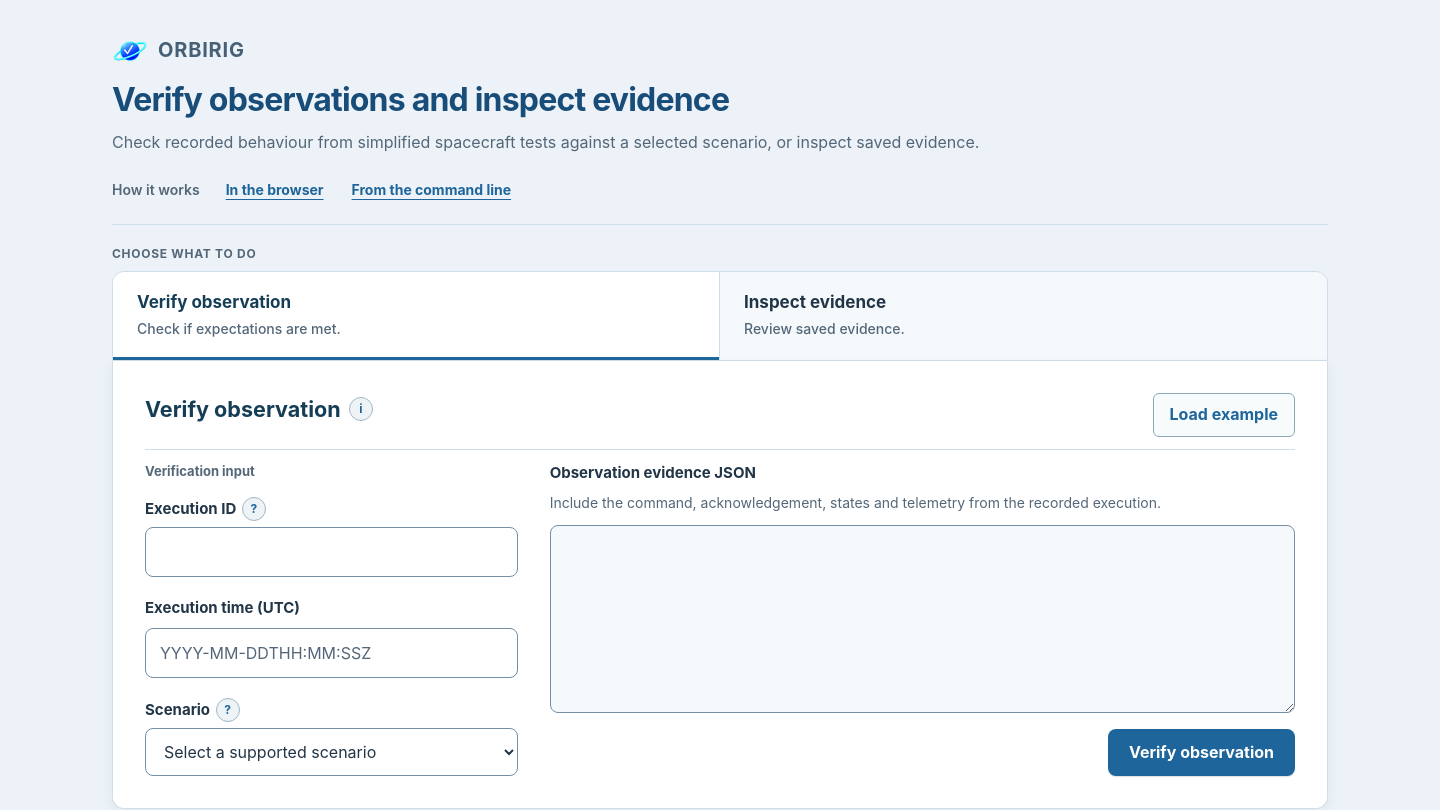
Test: App feedback › preserves completed verification state while switched away
The image size is (1440, 810).
Type "exec-web-verify-001" into the field labelled "Execution ID". click: point(331, 552)
box: [145,528,518,578]
Type "2026-08-25T18:30:00Z" into the field labelled "Execution time (UTC)". click: point(331, 653)
box: [145,628,518,678]
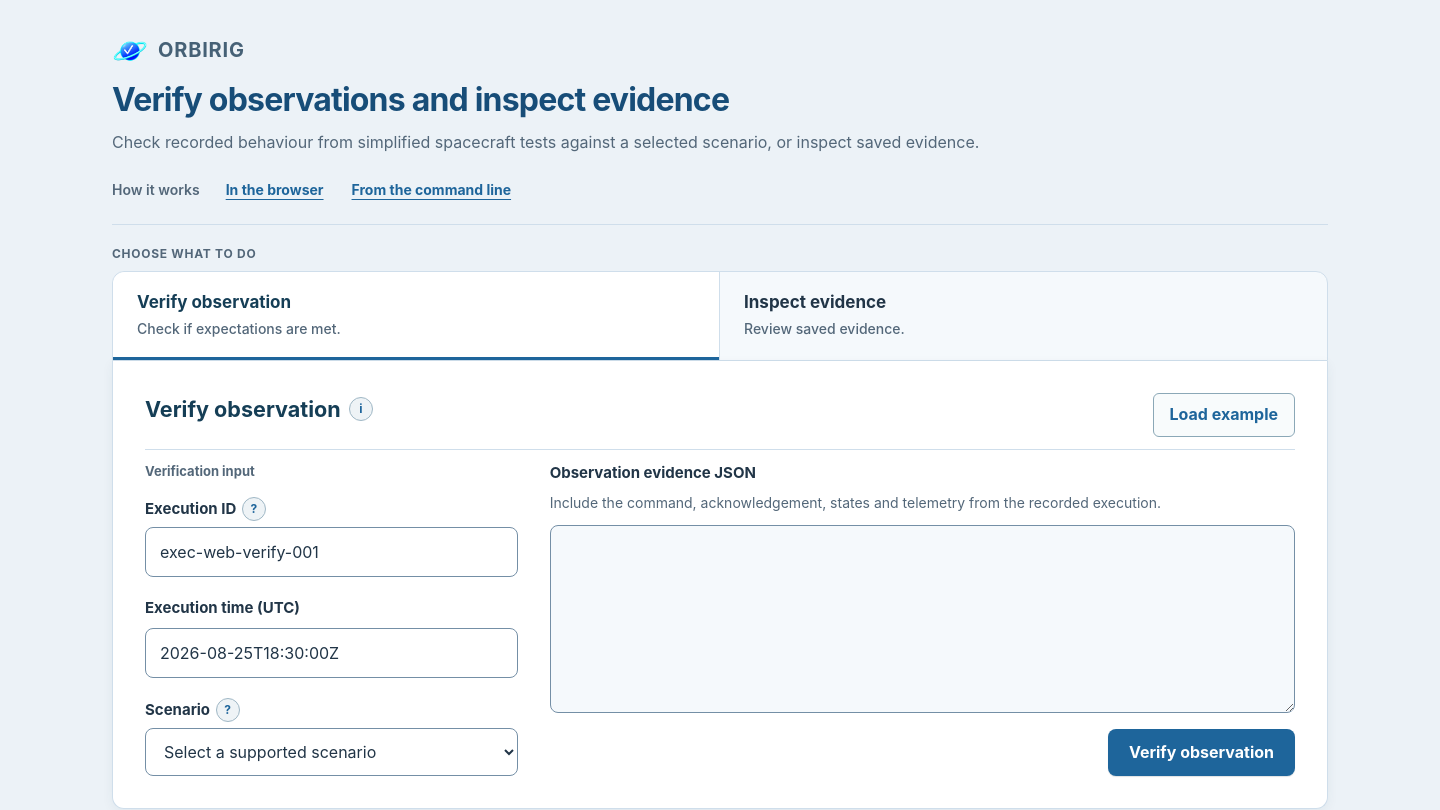
Select "NOMINAL to SAFE" in the dropdown labelled "Scenario". click: point(331, 752)
box: [145,728,518,776]
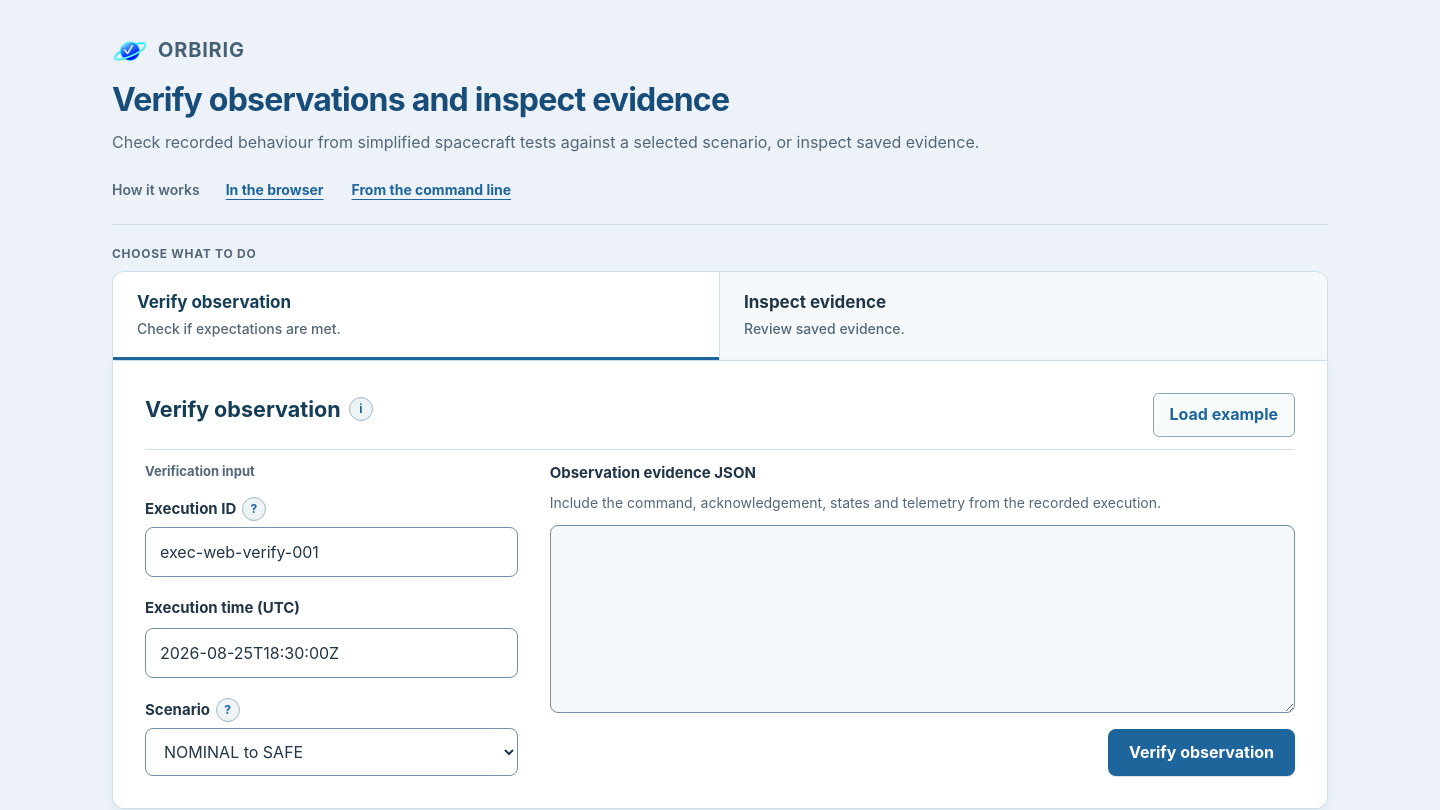
Type "raw observation evidence" into the text box labelled "Observation evidence JSON". click: point(922, 619)
box: [550,525,1295,713]
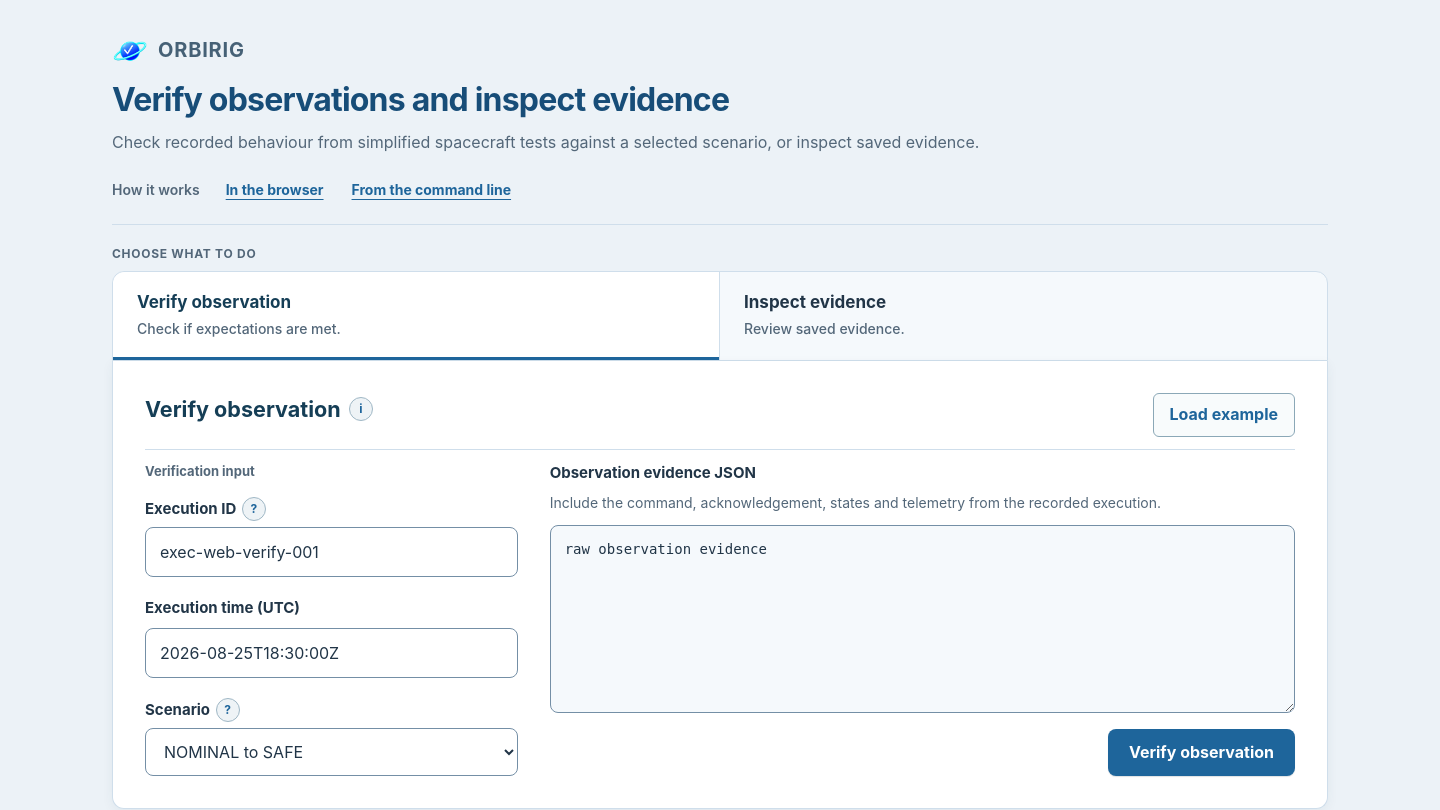
Click the button "Verify observation". click: point(1201, 752)
box: [1108,729,1295,776]
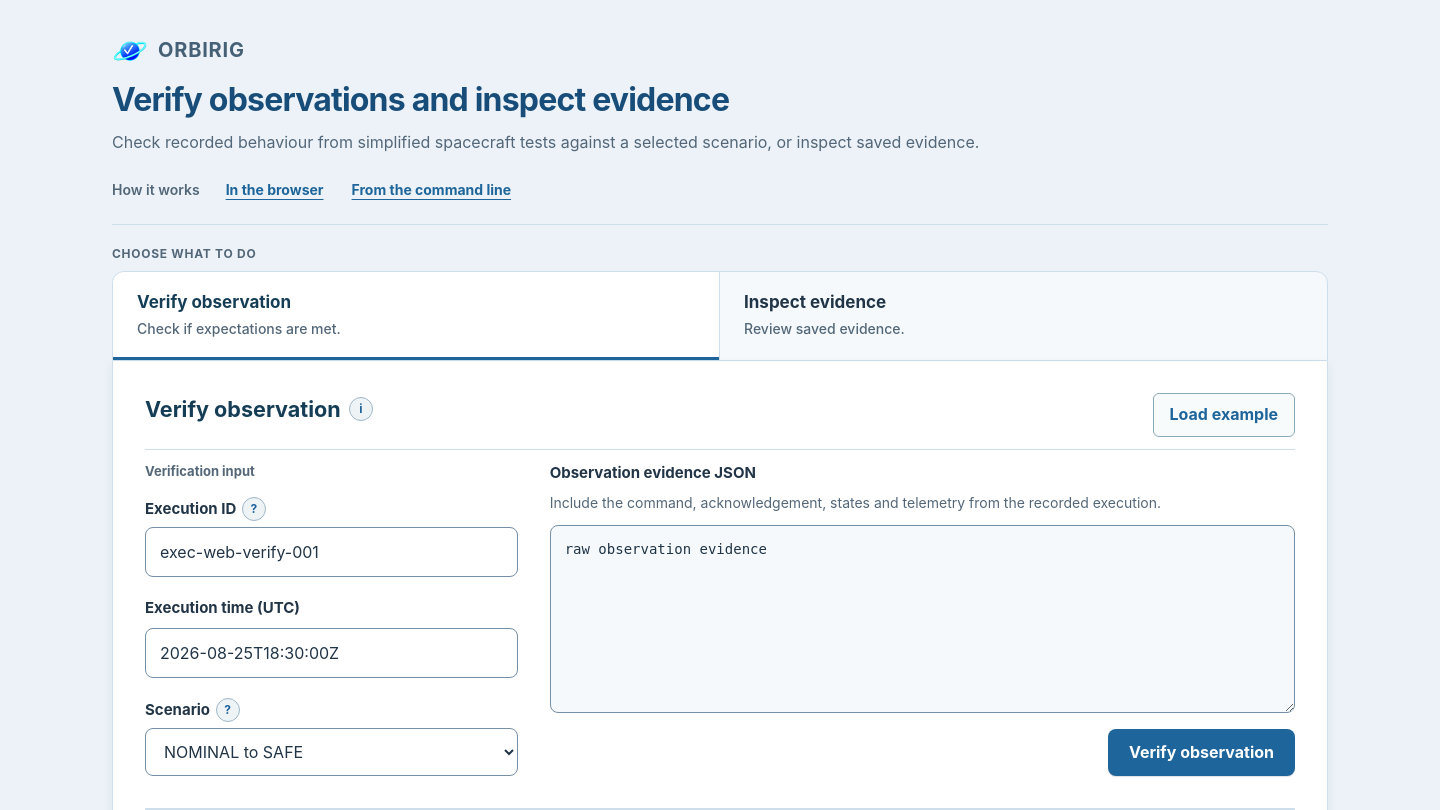
Click the button with aria-label "Show Inspect evidence". click: point(815, 302)
box: [720,272,1327,360]
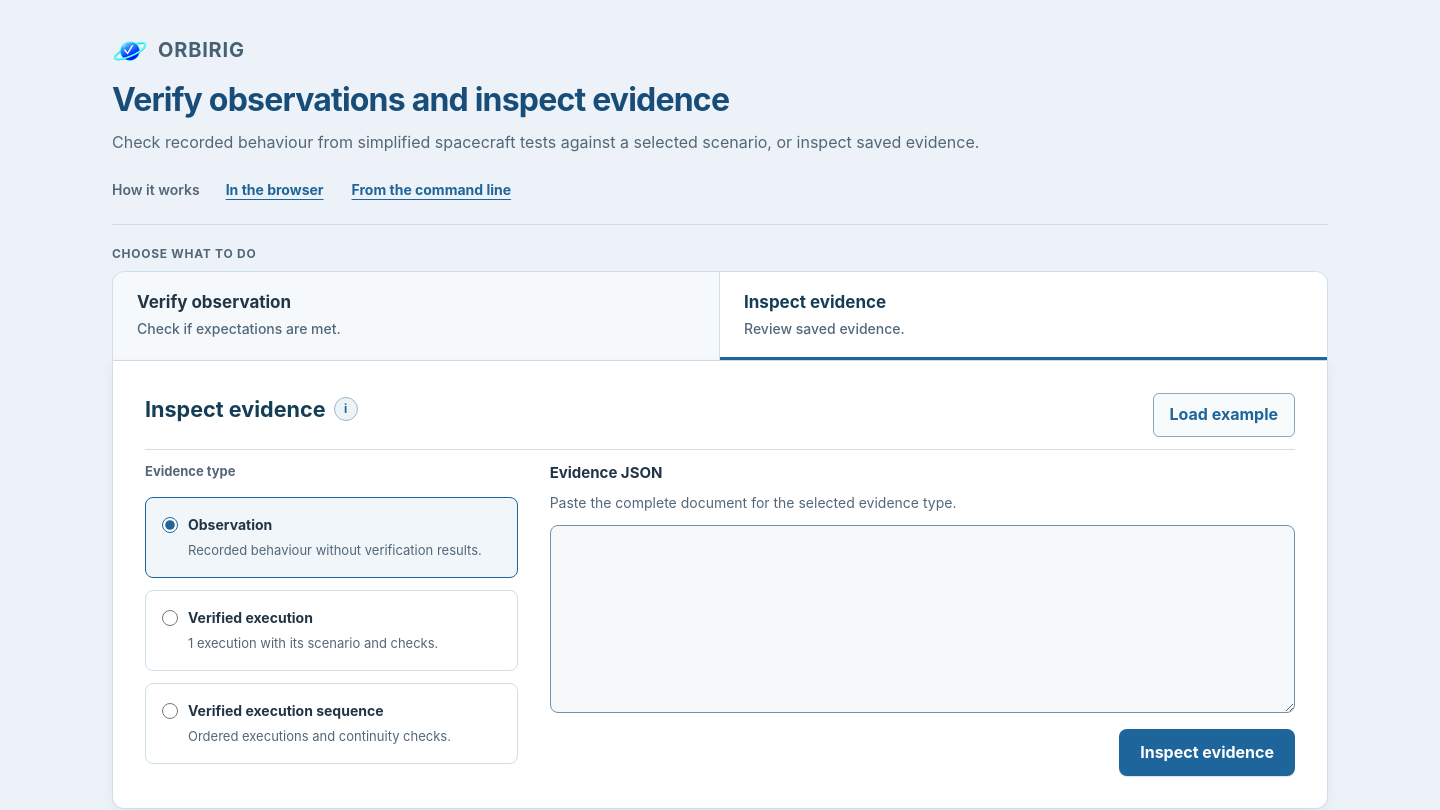
Click the button with aria-label "Show Verify observation". click: point(214, 302)
box: [113,272,720,360]
(page scrolled)
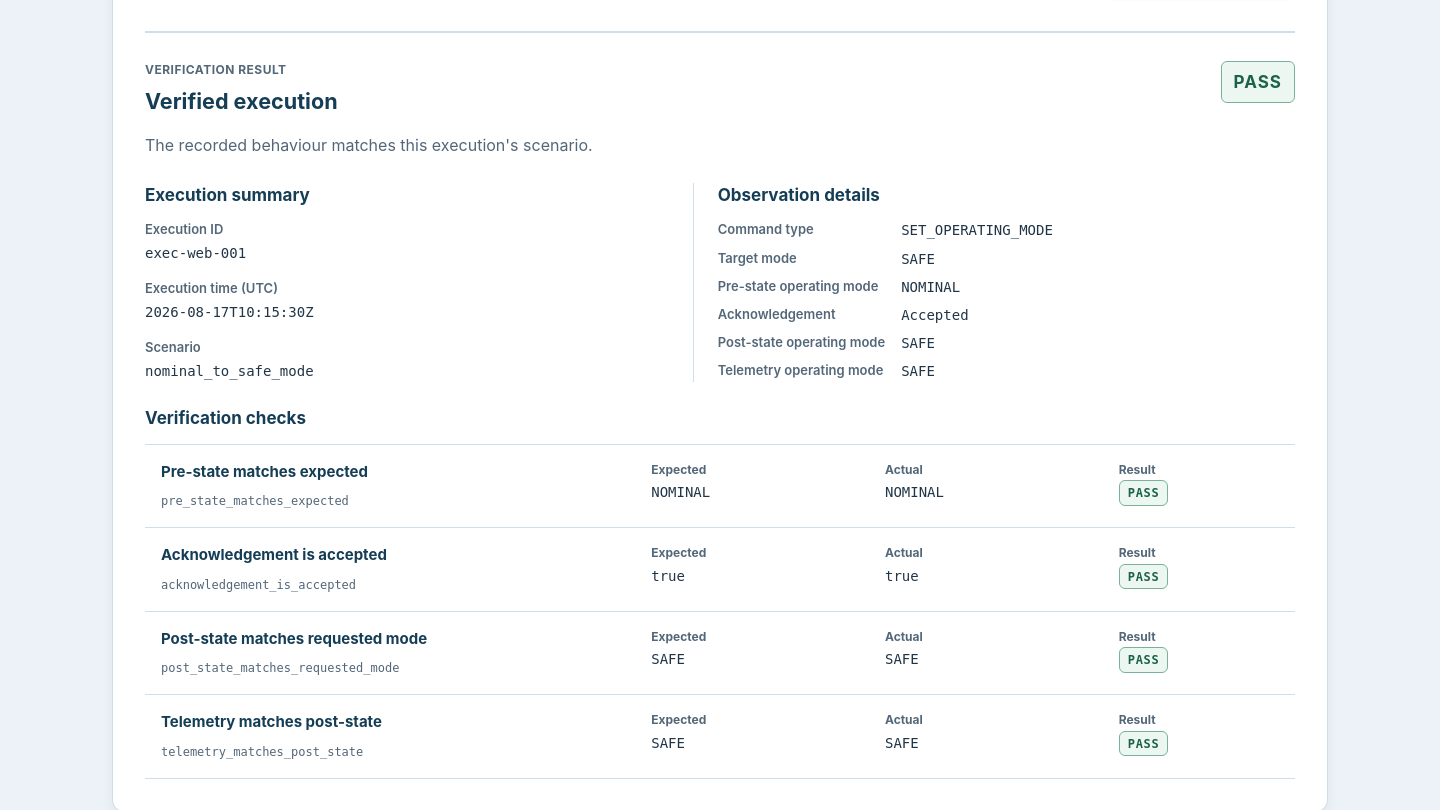
expect the element "Verified execution" is shown: met
